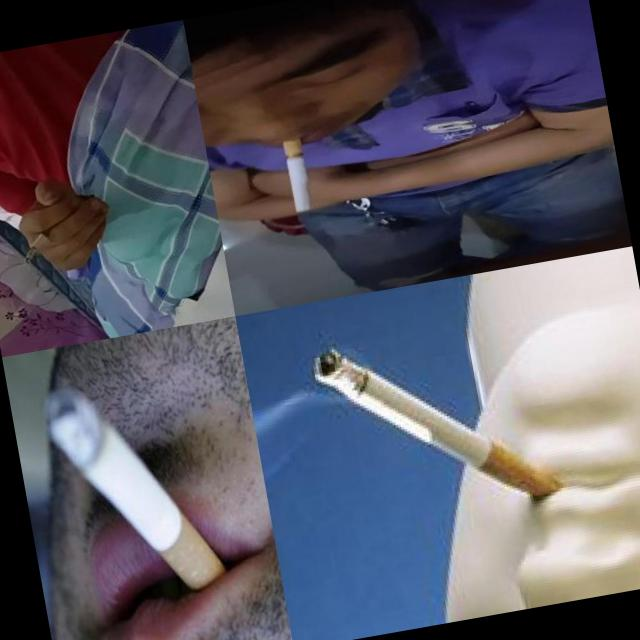cigarette: (310, 310, 570, 550), (38, 358, 240, 634), (280, 136, 312, 212), (19, 226, 56, 264)
